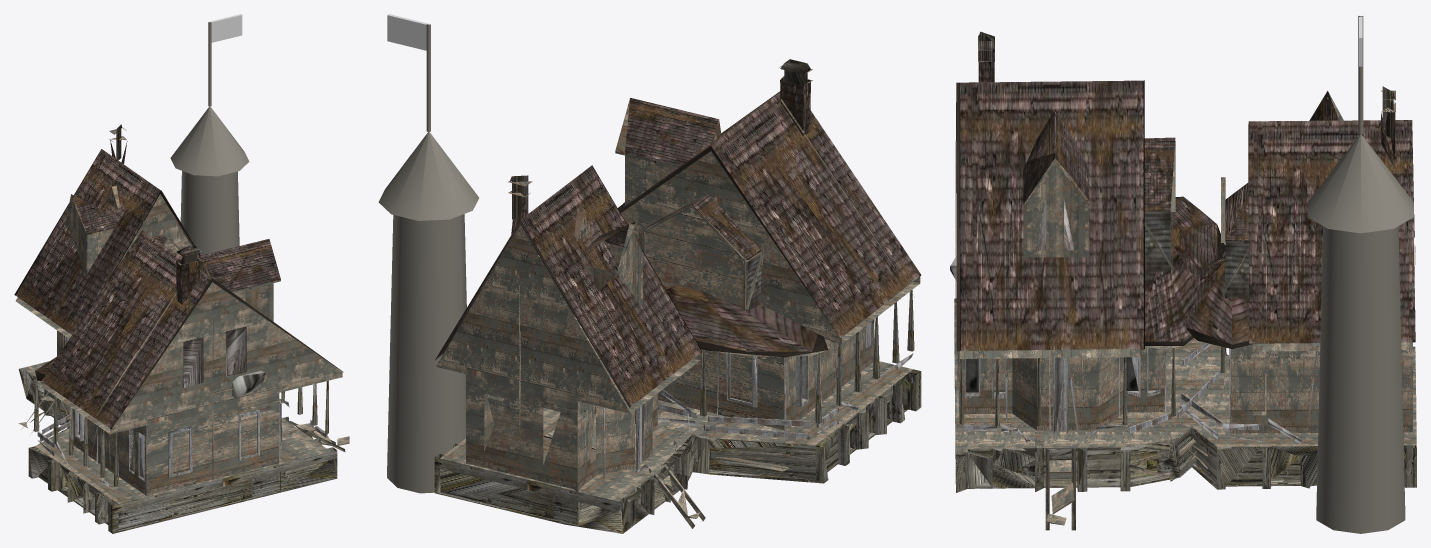
3 views of the same model, side by side, from view 1: azimuth 30°, elevation 25°; view 2: azimuth 150°, elevation 25°; view 3: azimuth 270°, elevation 25° (orthographic). The views are drawn at different scales.
Visible parts, largest first — view 1: dweller_building_hq; view 2: dweller_building_hq; view 3: dweller_building_hq.
Part boxes in pixels (left/top/right/bottom): dweller_building_hq: left=14, top=14, right=349, bottom=533; dweller_building_hq: left=378, top=14, right=921, bottom=533; dweller_building_hq: left=950, top=16, right=1416, bottom=533.
Size of the model in its own units: 5 by 5.9 by 5.
6 materials, 4 textured.
